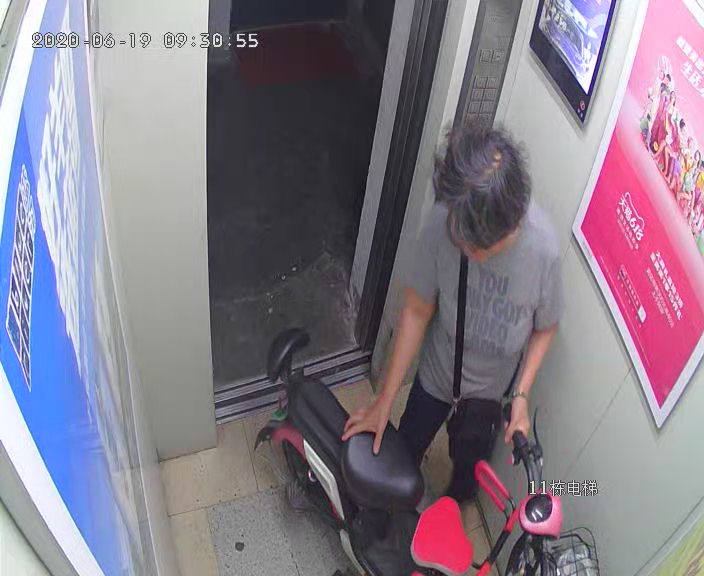Electric-bicycle: (267, 330, 596, 576)
